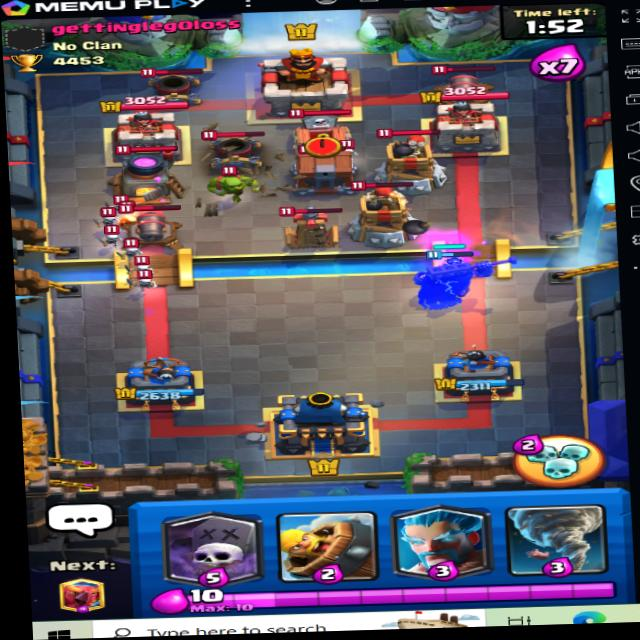Bombtower: (348, 174, 430, 247), (365, 123, 449, 194)
Cannon: (427, 61, 503, 107), (122, 201, 187, 248)
Furnace: (111, 142, 192, 205)
Goblinbrawler: (198, 157, 274, 206)
Goblincage: (288, 138, 364, 191)
Mortar: (140, 56, 211, 105), (200, 129, 266, 162)
Skeleton: (119, 239, 152, 262), (132, 268, 163, 292), (129, 255, 164, 273), (103, 224, 125, 245), (96, 209, 116, 224)
Tesla: (276, 203, 346, 250)
Tombstone: (284, 104, 363, 150)
